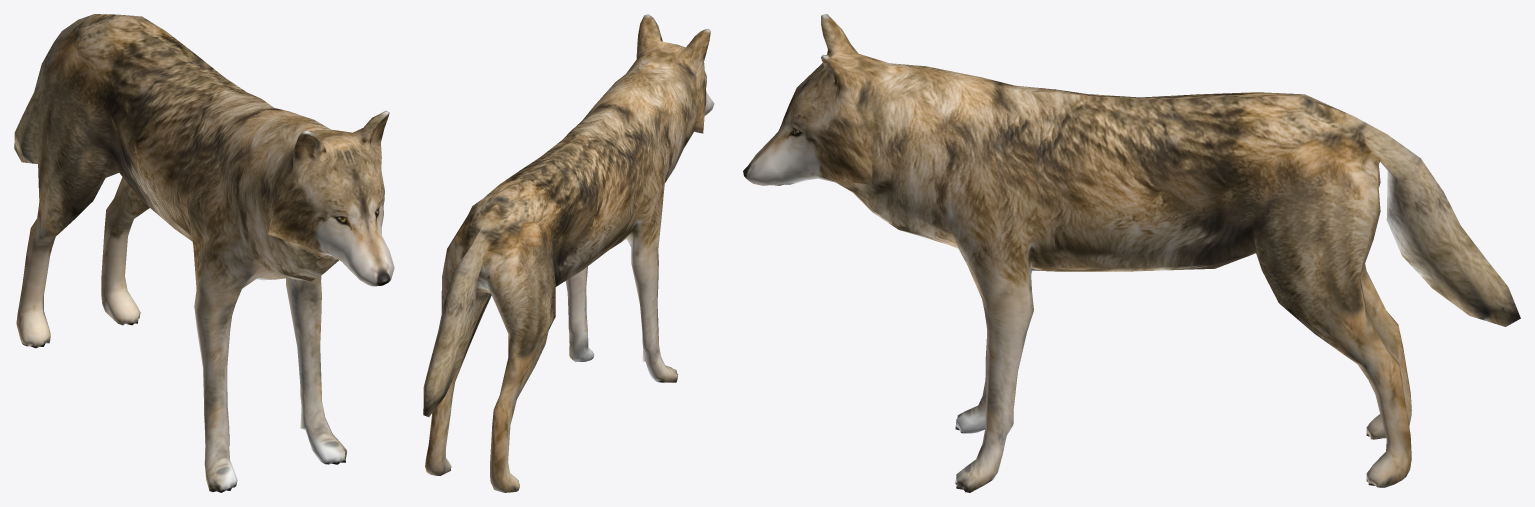
File: lobo2.obj
3 views of the same model, side by side, from view 1: azimuth 30°, elevation 25°; view 2: azimuth 150°, elevation 25°; view 3: azimuth 270°, elevation 25° (orthographic). The views are drawn at different scales.
Visible parts, largest first — view 1: Low; view 2: Low; view 3: Low.
Part boxes in pixels (box(x1,y1,x2,y2)): Low: box(14, 14, 394, 492); Low: box(423, 14, 714, 492); Low: box(743, 14, 1520, 492).
Bounding box in the file's own units: 1 × 2.83 × 4.7.
1 material, 1 textured.
